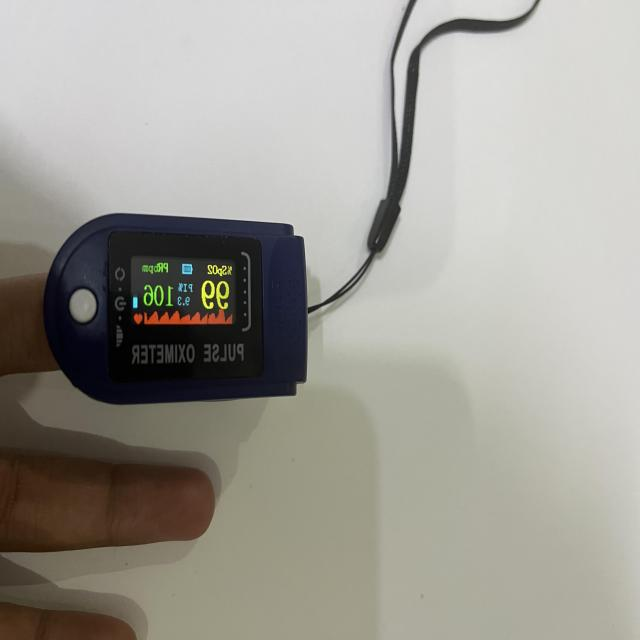spo2: (47, 216, 269, 405)
